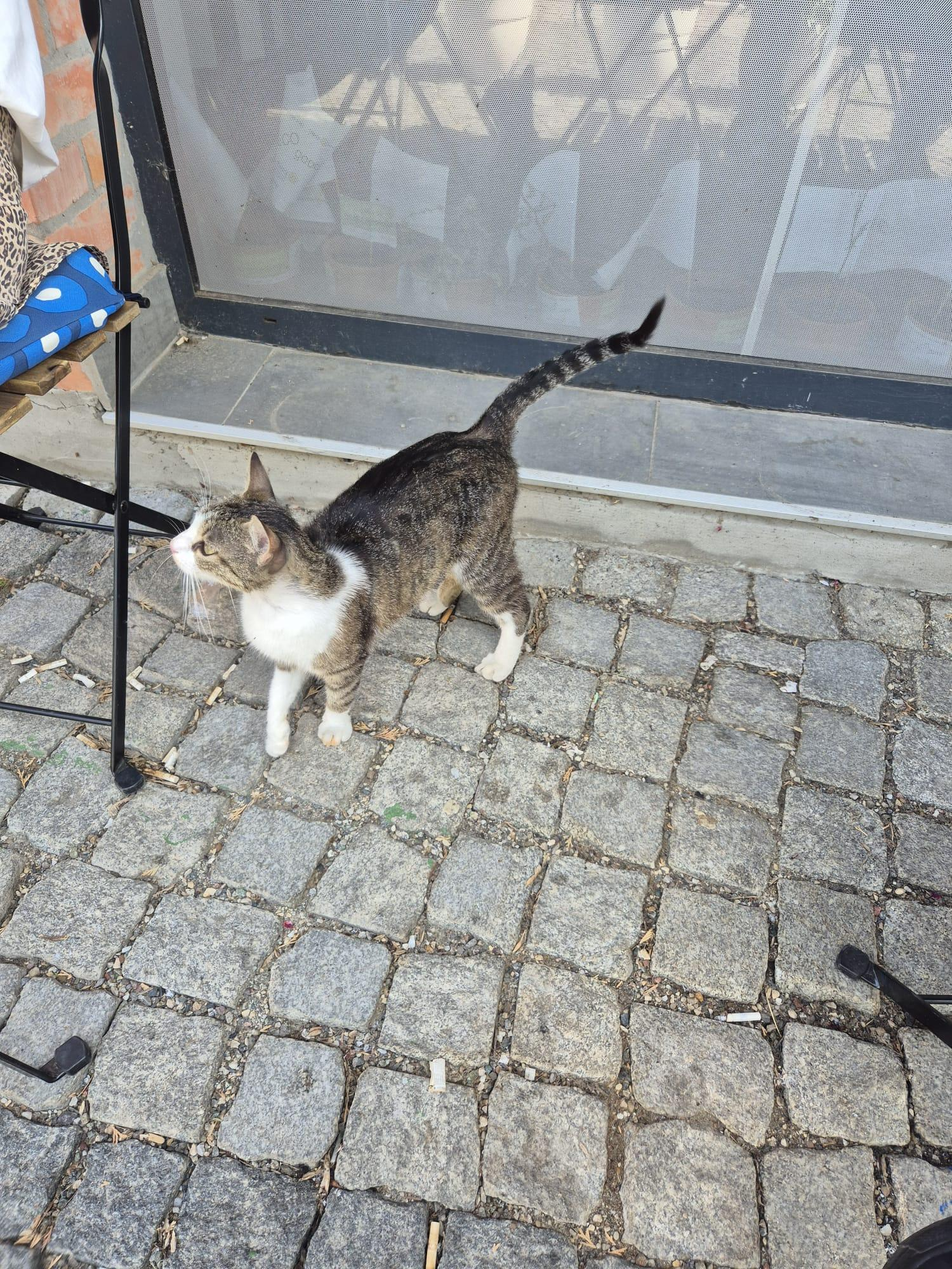macka: (166, 297, 668, 759)
